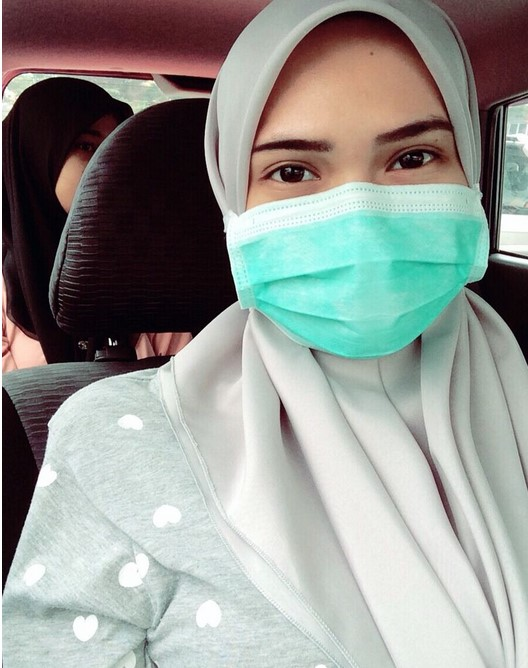face_with_mask: (203, 6, 500, 374)
